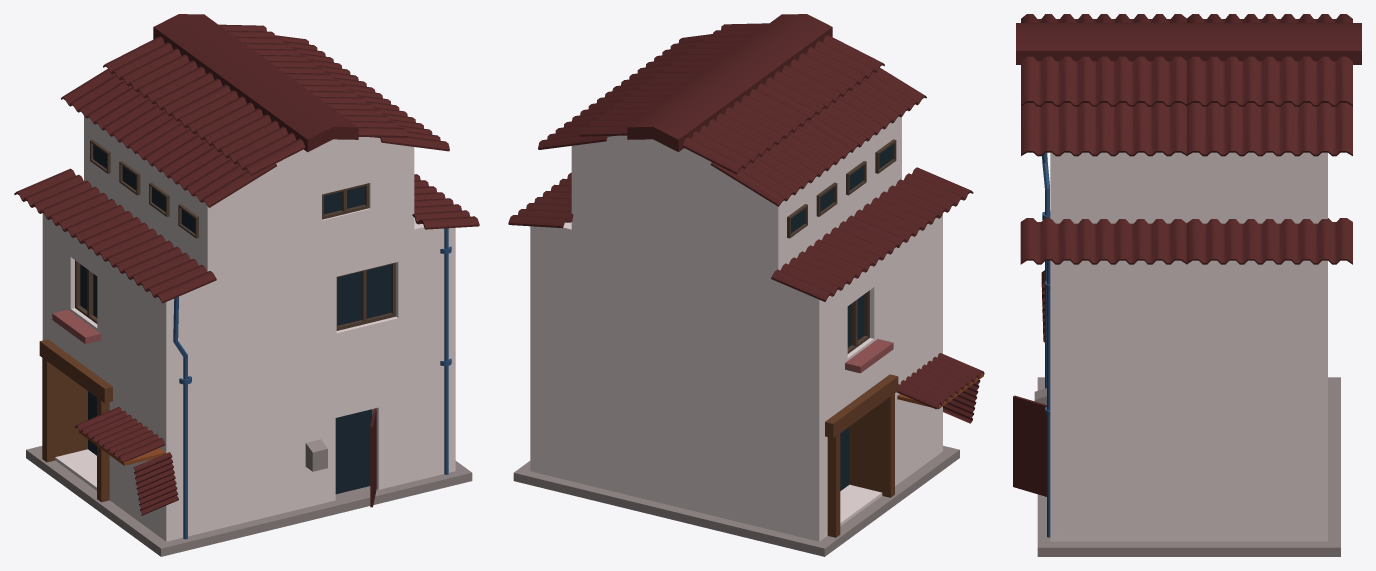
Rendered from CountryHouse02.fbx.
3 views of the same model, side by side, from view 1: azimuth 30°, elevation 25°; view 2: azimuth 150°, elevation 25°; view 3: azimuth 270°, elevation 25° (orthographic). The views are drawn at different scales.
Visible parts, largest first — view 1: CountryHouse02; view 2: CountryHouse02; view 3: CountryHouse02.
Boxes of the visible parts, box(x1,y1,x2,y2) form: CountryHouse02: box(14, 14, 479, 556); CountryHouse02: box(508, 14, 984, 556); CountryHouse02: box(1013, 14, 1361, 556).
Size of the model in its own units: 90.09 by 70.53 by 99.54.
